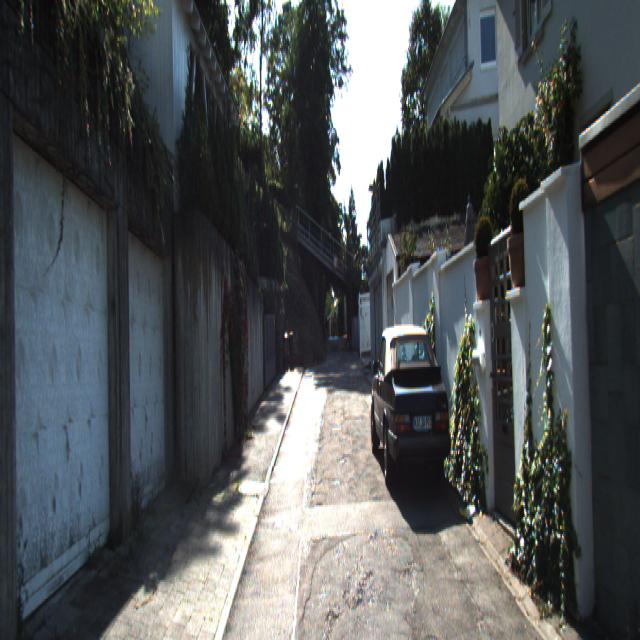Car: (367, 317, 453, 499)
